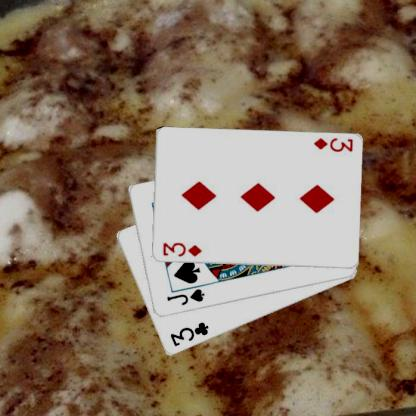3C: (167, 320, 210, 348)
3D: (310, 135, 354, 154), (160, 240, 203, 259)
JS: (164, 287, 206, 307)
